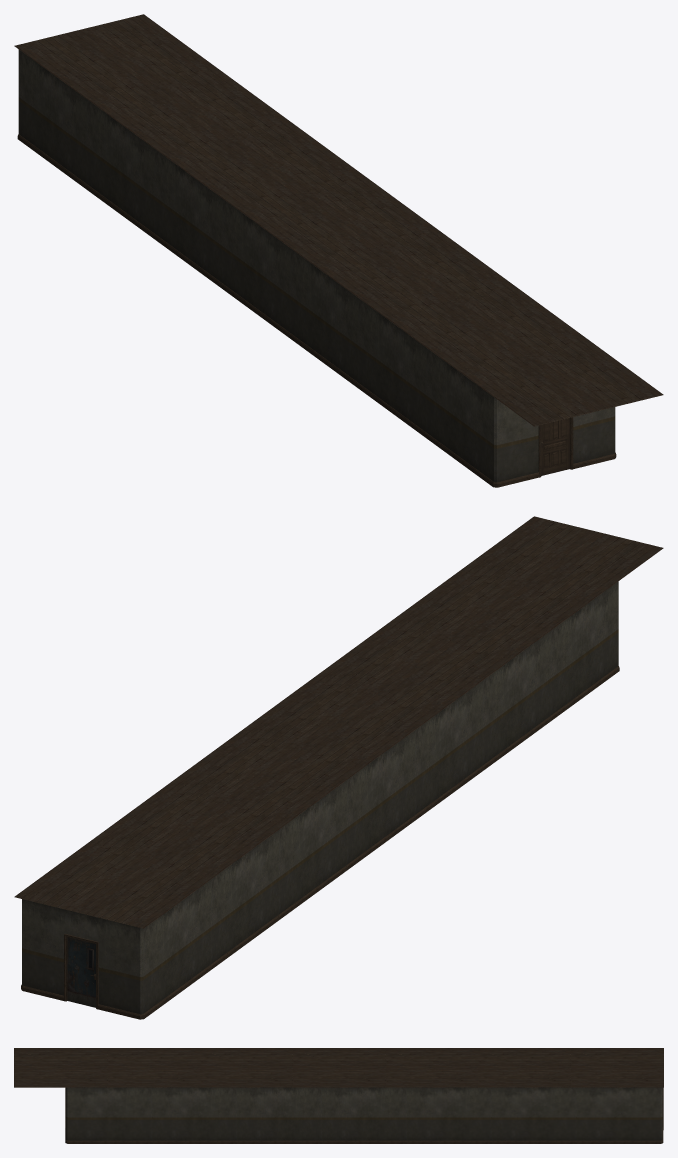
Rendered from Hallway.glb.
3 renders of one model, top to bottom at view 1: azimuth 30°, elevation 25°; view 2: azimuth 150°, elevation 25°; view 3: azimuth 270°, elevation 25°, orthographic. The views are drawn at different scales.
Parts seen in each view (by area): view 1: floor_ceiling_1.001, floor_ceiling_1.007, floor_ceiling_1.003, floor_ceiling_1.002, floor_ceiling_1.004, floor_ceiling_1.005, floor_ceiling_1.006, wall_1.014, wall_1.020, wall_1.024, wall_1.016, wall_1.018 (+4 smaller); view 2: floor_ceiling_1.007, floor_ceiling_1.001, floor_ceiling_1.002, floor_ceiling_1.004, floor_ceiling_1.003, floor_ceiling_1.005, floor_ceiling_1.006, doorway_rotroom, wall_1.026, wall_1.014, wall_1.016, wall_1.018 (+4 smaller); view 3: wall_1.015, wall_1.027, wall_1.025, wall_1.017, wall_1.019, wall_1.021, wall_1.023, floor_ceiling_1.004, floor_ceiling_1.007, floor_ceiling_1.001, floor_ceiling_1.002, floor_ceiling_1.003 (+2 smaller).
Boxes of the visible parts, x1,y1,x2,y2 form: floor_ceiling_1.001: (459,340,663,426); floor_ceiling_1.007: (14,14,217,100); floor_ceiling_1.003: (311,231,514,317); floor_ceiling_1.002: (386,286,588,371); floor_ceiling_1.004: (237,177,440,263); floor_ceiling_1.005: (163,123,366,208); floor_ceiling_1.006: (89,68,291,154); wall_1.014: (425,348,495,487); wall_1.020: (221,198,290,337); wall_1.024: (85,99,154,238); wall_1.016: (357,298,426,436); wall_1.018: (289,248,358,387); floor_ceiling_1.007: (14,842,217,928); floor_ceiling_1.001: (460,516,663,602); floor_ceiling_1.002: (386,570,589,656); floor_ceiling_1.004: (238,679,440,765); floor_ceiling_1.003: (312,625,514,710); floor_ceiling_1.005: (163,733,366,819); floor_ceiling_1.006: (89,788,292,873); doorway_rotroom: (21,899,141,1019); wall_1.026: (141,880,211,1019); wall_1.014: (550,581,619,720); wall_1.016: (482,631,551,769); wall_1.018: (415,681,483,819); wall_1.015: (66,1087,152,1143); wall_1.027: (576,1087,662,1143); wall_1.025: (491,1087,576,1143); wall_1.017: (152,1087,236,1143); wall_1.019: (237,1087,321,1143); wall_1.021: (322,1087,406,1143); wall_1.023: (407,1087,491,1143); floor_ceiling_1.004: (292,1048,385,1087); floor_ceiling_1.007: (570,1048,663,1087); floor_ceiling_1.001: (14,1048,107,1087); floor_ceiling_1.002: (107,1048,199,1087); floor_ceiling_1.003: (200,1048,292,1087).
Bounding box in the file's own units: 4.41 × 3.02 × 30.64.
Materials: 15 (15 with a texture image).
